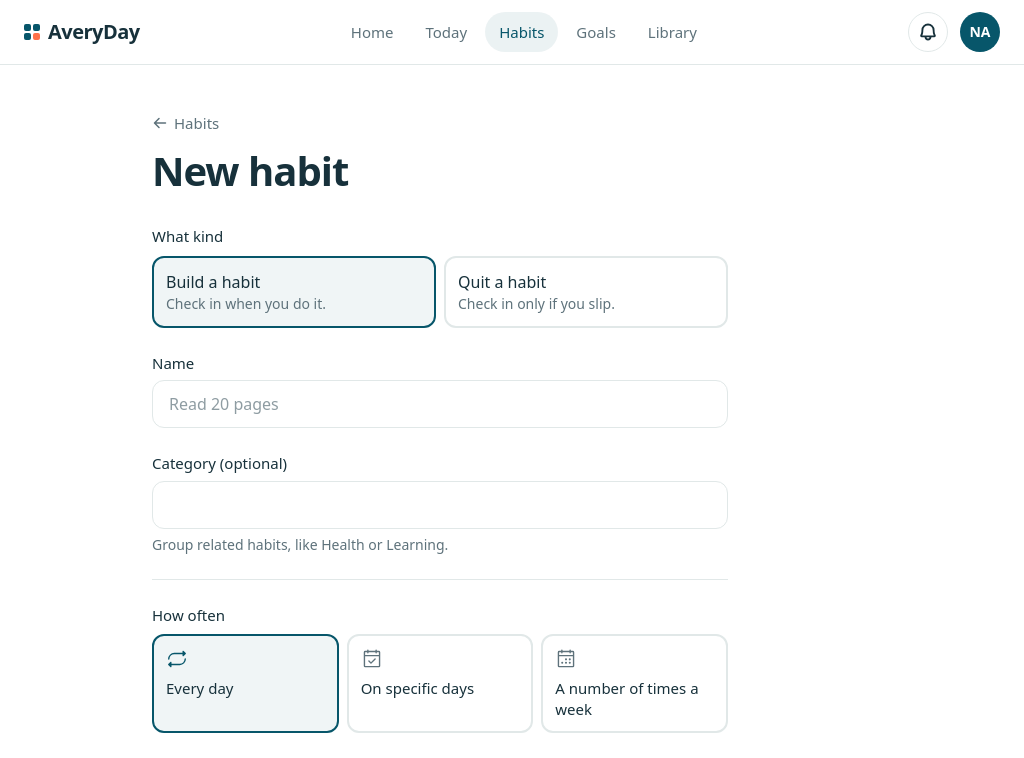
Test: creating a habit › asks for at least one day before sending anything
The image size is (1024, 758).
In the field labelled "Name": (440, 404) [152,380,728,428], type "Run"
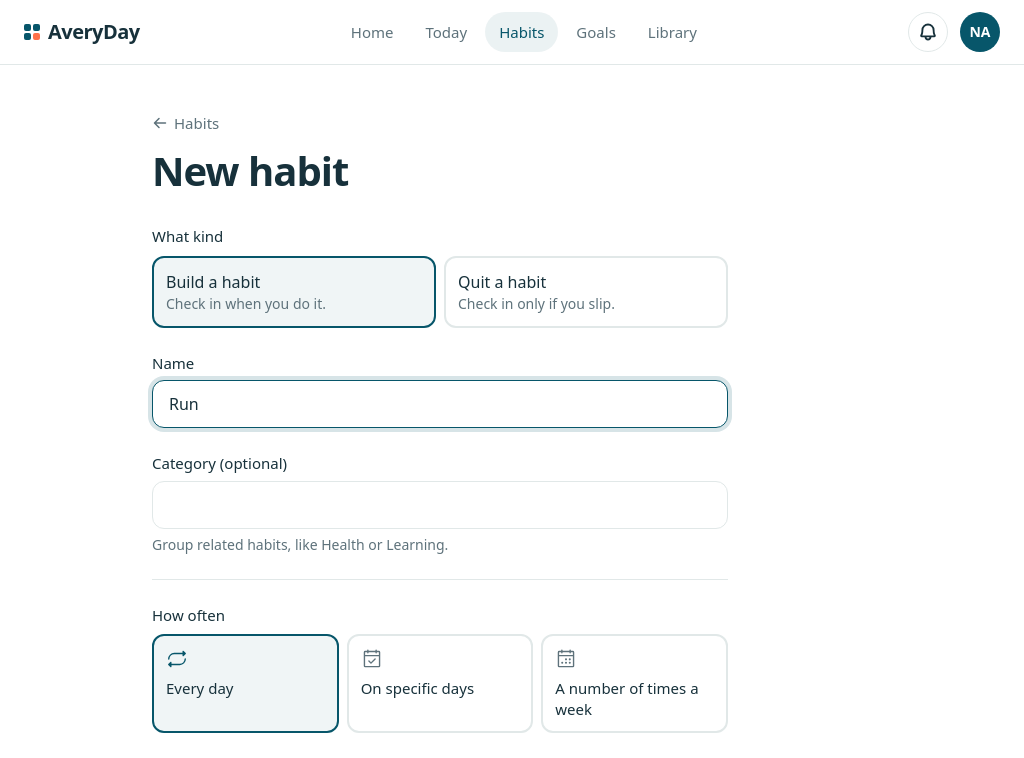
Click the radio button labelled "On specific days": (440, 684) [347,634,533,733]
(page scrolled)
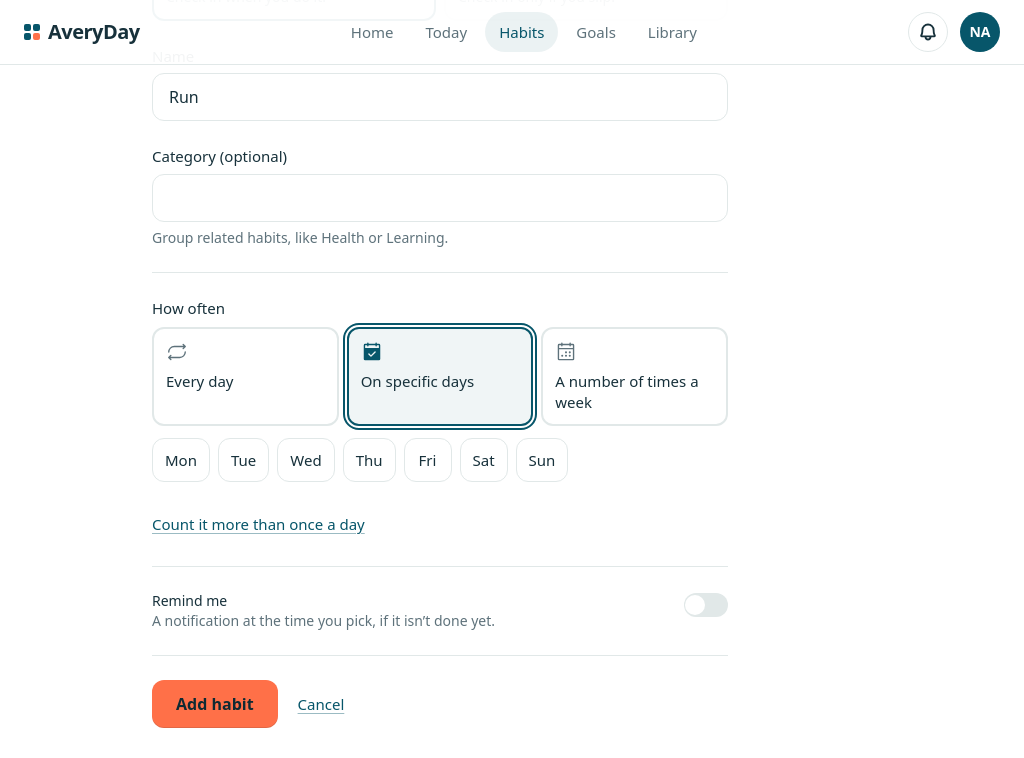
Click the button "Add habit": (215, 704) [152,680,278,728]
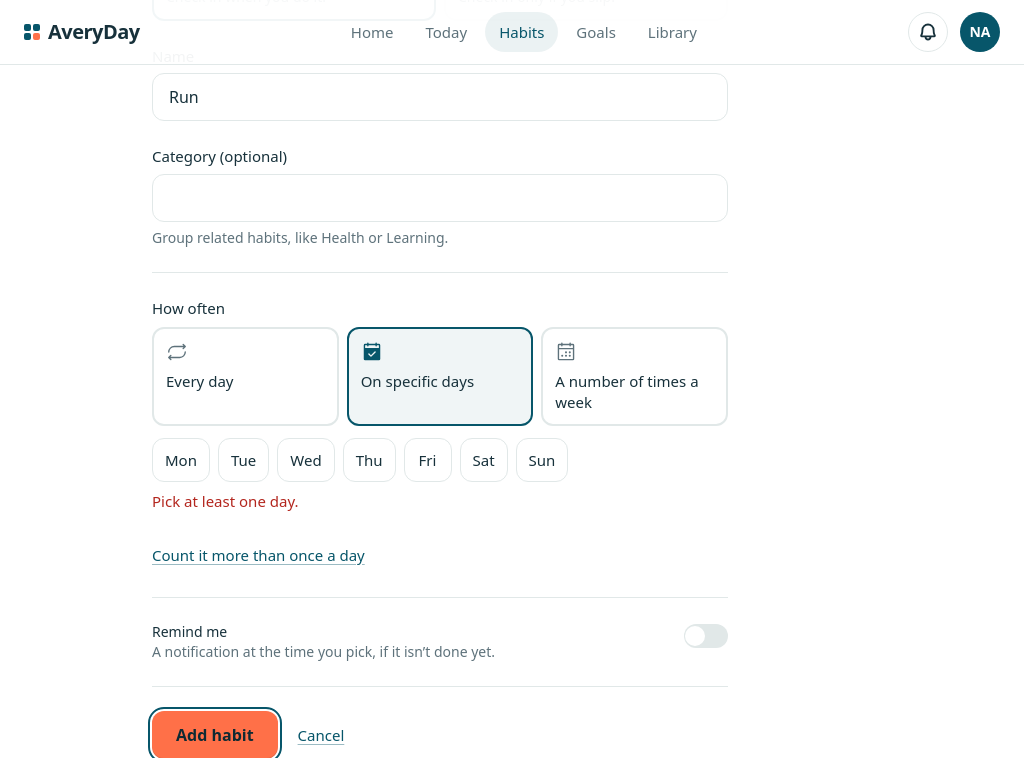
Expected: the message reads "Pick at least one day.", [152,491,298,511]
